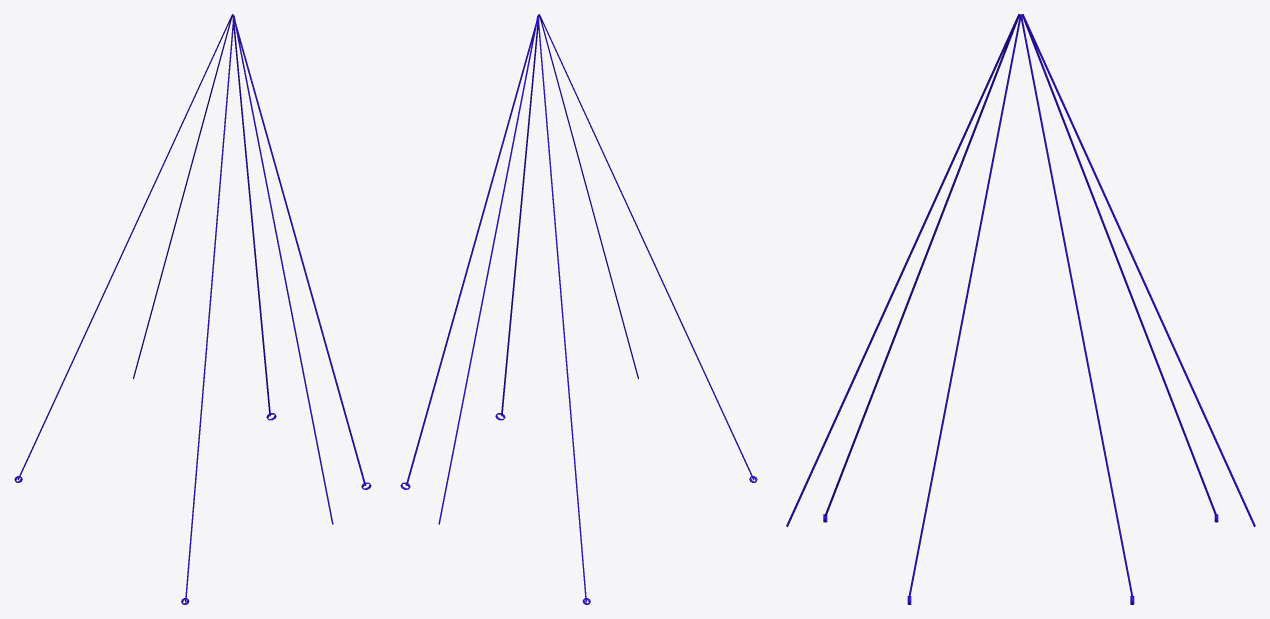
Rendered from SM_Tipairua_RopesFront.fbx.
The picture shows the model from 3 angles, left to right: view 1: azimuth 30°, elevation 25°; view 2: azimuth 150°, elevation 25°; view 3: azimuth 270°, elevation 25°; orthographic projection. The views are drawn at different scales.
Visible parts, largest first — view 1: SM_TIpairua_FrontRopes; view 2: SM_TIpairua_FrontRopes; view 3: SM_TIpairua_FrontRopes.
Boxes of the visible parts, x1,y1,x2,y2 form: SM_TIpairua_FrontRopes: [14, 14, 371, 604]; SM_TIpairua_FrontRopes: [400, 14, 757, 604]; SM_TIpairua_FrontRopes: [786, 14, 1255, 604].
Size of the model in its own units: 900 by 585 by 1232.
